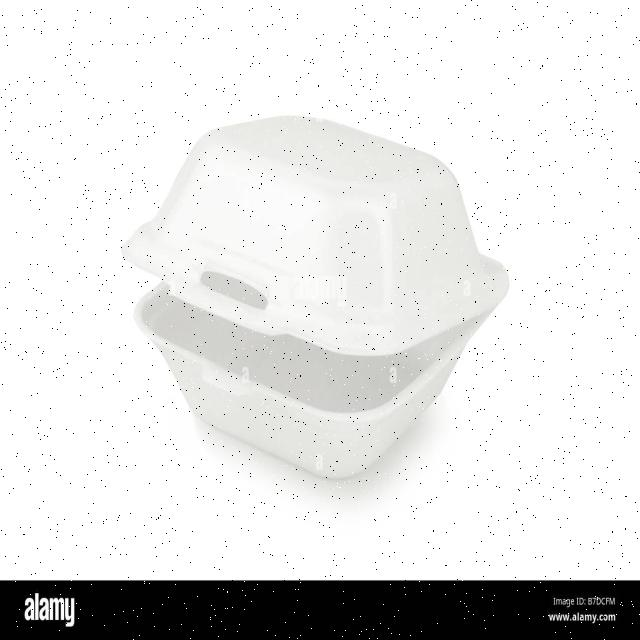styrofoam: (120, 112, 510, 480)
